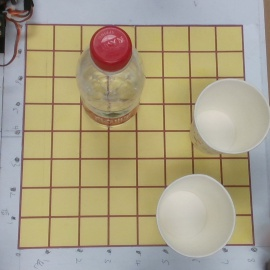bottle: (73, 25, 145, 139)
cup: (151, 173, 236, 258), (182, 78, 270, 155)
